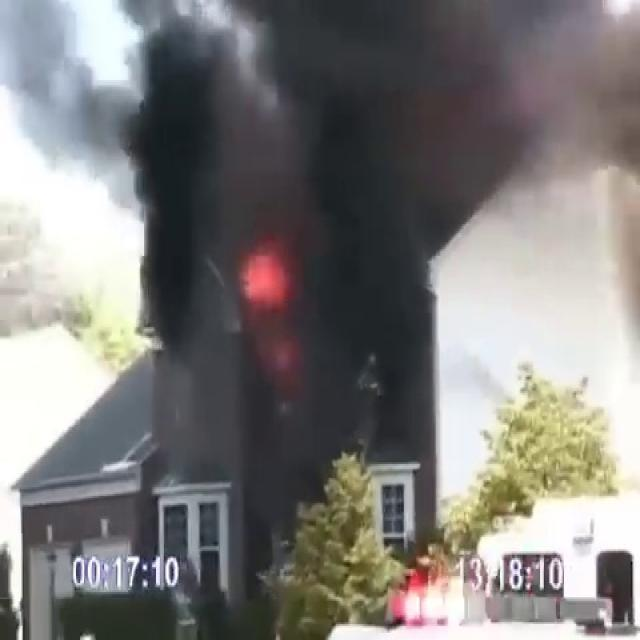Smoke: (117, 1, 639, 548)
